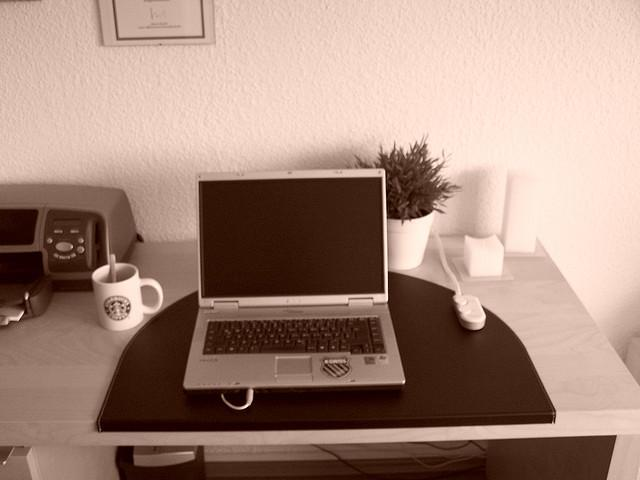tv: (193, 171, 408, 397)
